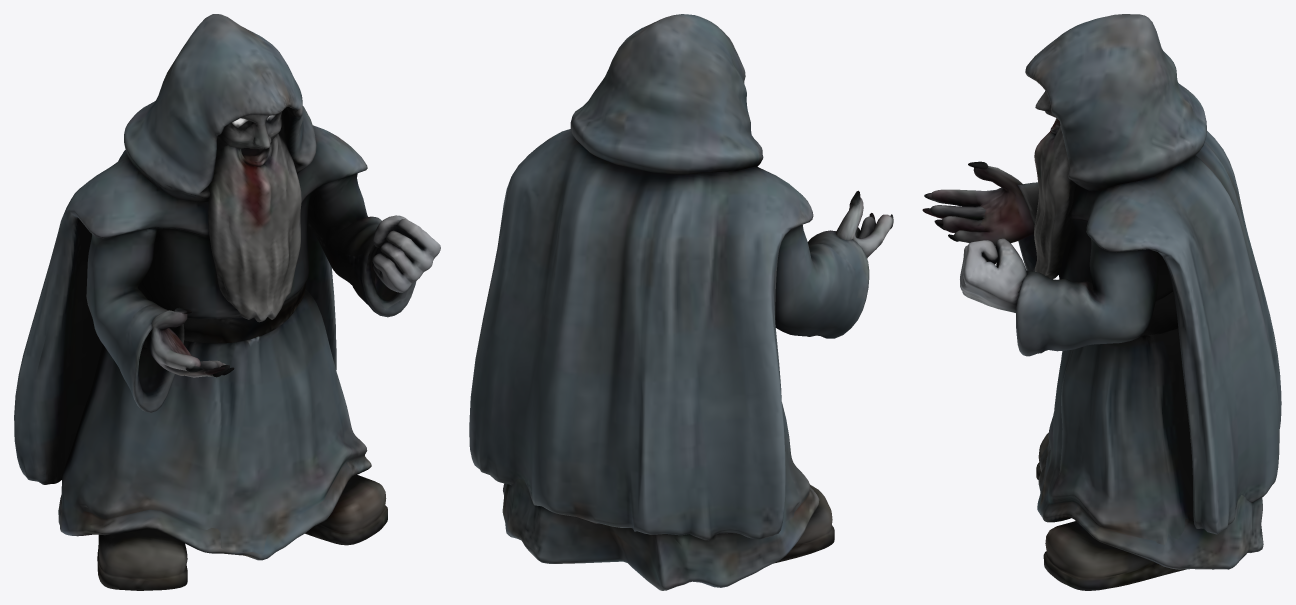
The model's file is MZ4250 - DuergarMindMaster.glb.
3 renders of one model, left to right at view 1: azimuth 30°, elevation 25°; view 2: azimuth 150°, elevation 25°; view 3: azimuth 270°, elevation 25°, orthographic.
Parts seen in each view (by area): view 1: Duergar Mind Master.001; view 2: Duergar Mind Master.001; view 3: Duergar Mind Master.001.
Part boxes in pixels (x1,y1,x2,y2): Duergar Mind Master.001: (14, 14, 440, 590); Duergar Mind Master.001: (469, 14, 893, 590); Duergar Mind Master.001: (922, 14, 1281, 590).
Size of the model in its own units: 18.01 by 27.97 by 17.81.
Materials: 1 (1 with a texture image).
